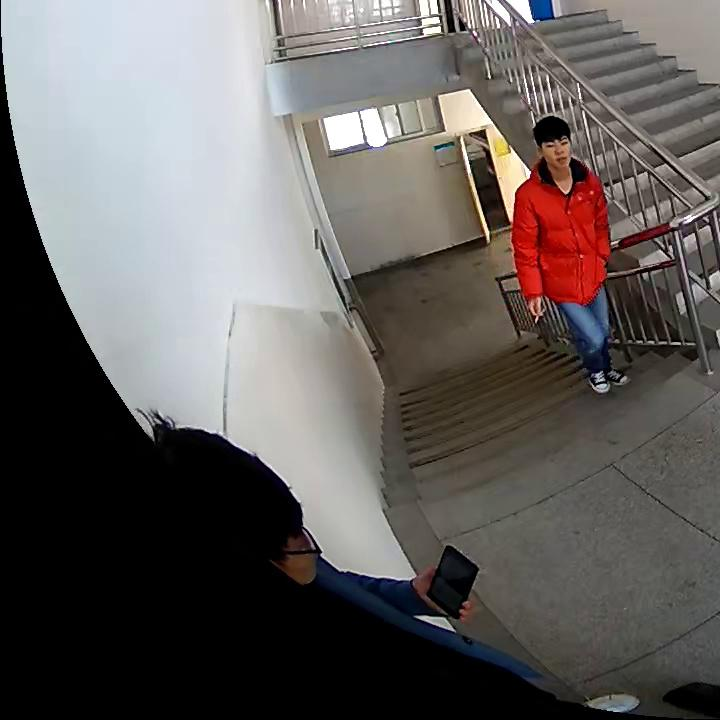handsmoke: (524, 296, 547, 325)
mouthwithoutsmoke: (537, 117, 574, 174)
